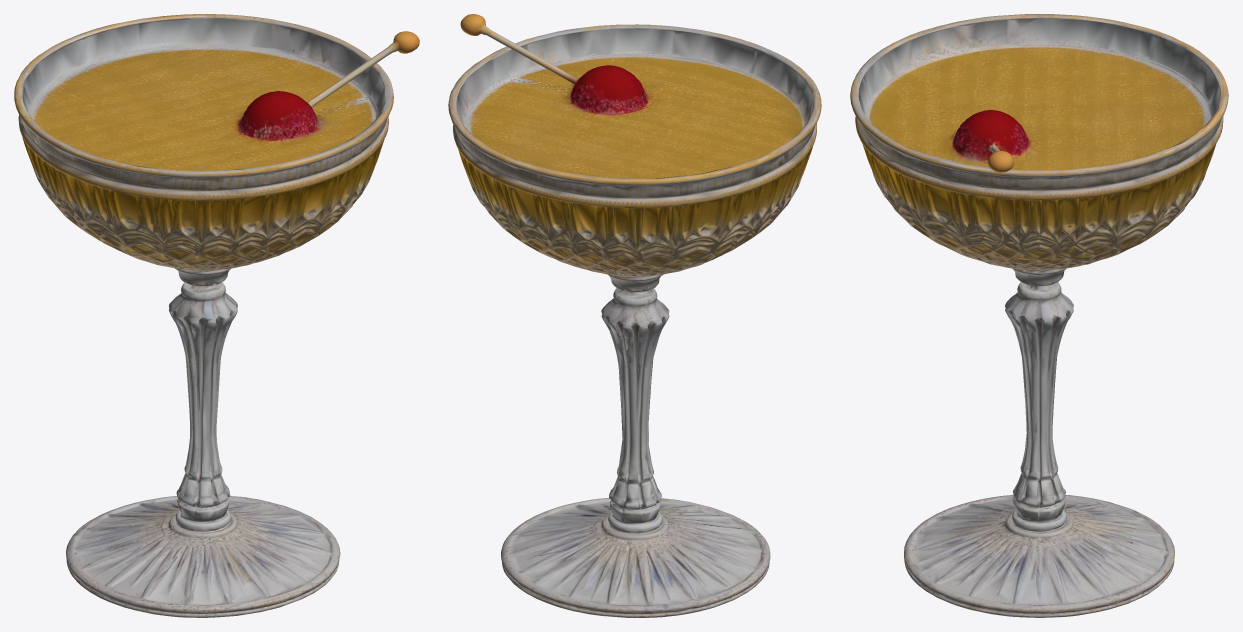
The model's file is cumple.glb.
The picture shows the model from 3 angles, left to right: view 1: azimuth 30°, elevation 25°; view 2: azimuth 150°, elevation 25°; view 3: azimuth 270°, elevation 25°; orthographic projection.
Parts seen in each view (by area): view 1: material; view 2: material; view 3: material.
Boxes of the visible parts, box(x1,y1,x2,y2) form: material: box(14, 14, 419, 617); material: box(448, 14, 821, 617); material: box(850, 14, 1228, 617).
Size of the model in its own units: 0.7259 by 0.9647 by 0.6626.
Materials: 1 (1 with a texture image).
